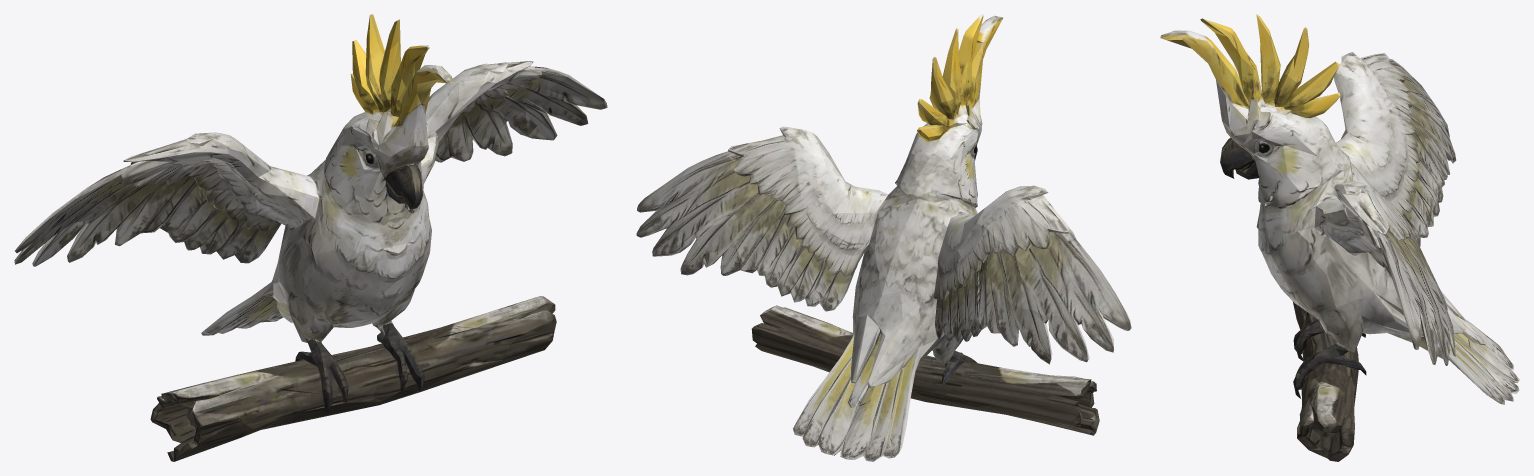
Rendered from cockatoo.glb.
3 views of the same model, side by side, from view 1: azimuth 30°, elevation 25°; view 2: azimuth 150°, elevation 25°; view 3: azimuth 270°, elevation 25° (orthographic). The views are drawn at different scales.
Size of the model in its own units: 1.9 by 1.28 by 1.1.
1 material, 1 textured.
